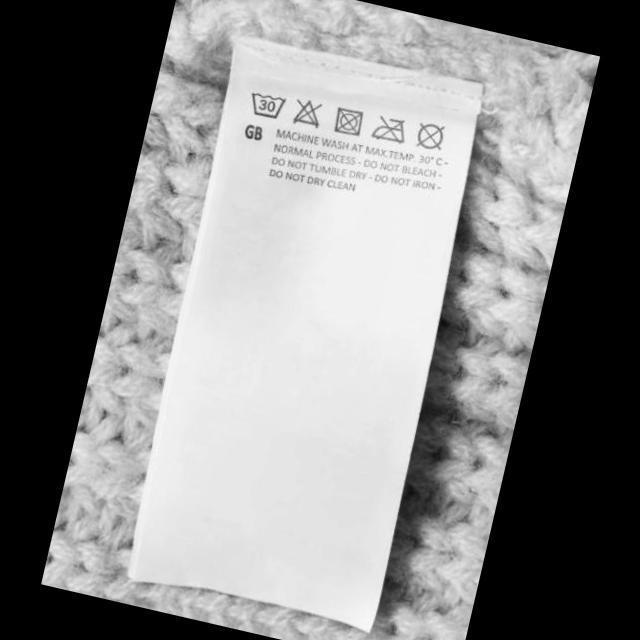30C: (243, 86, 290, 122)
DN_bleach: (290, 96, 326, 132)
DN_dry_clean: (410, 118, 448, 154)
DN_iron: (368, 110, 412, 151)
DN_tumble_dry: (330, 104, 368, 139)
